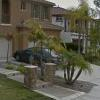Palm tree: (28, 23, 51, 67)
